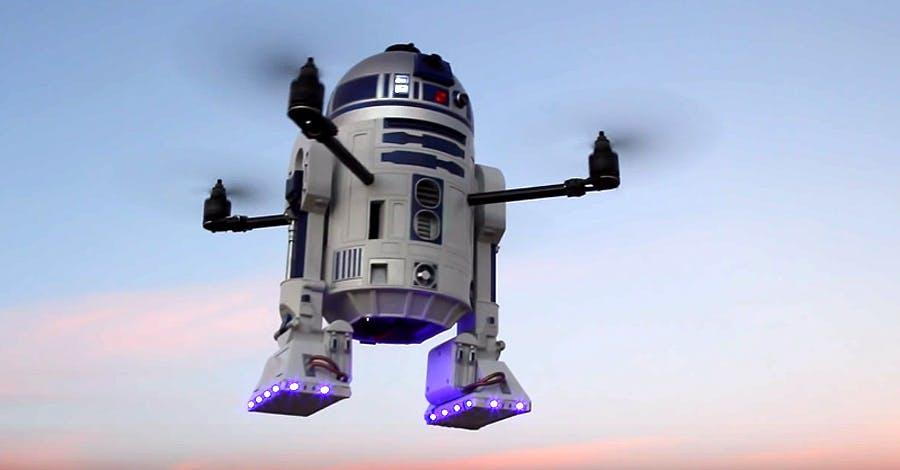drone: (148, 46, 646, 266)
